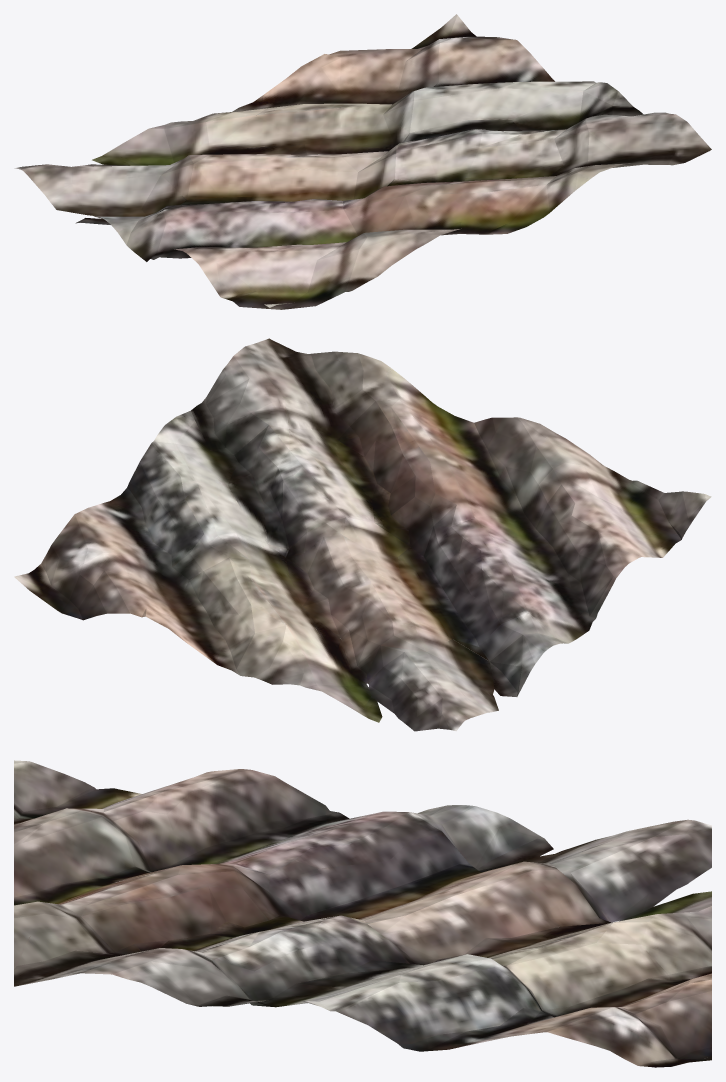
3 views of the same model, one above another, from view 1: azimuth 30°, elevation 25°; view 2: azimuth 150°, elevation 25°; view 3: azimuth 270°, elevation 25° (orthographic). The views are drawn at different scales.
Bounding box in the file's own units: 0.8374 × 0.2136 × 0.8374.
3 materials, 3 textured.
